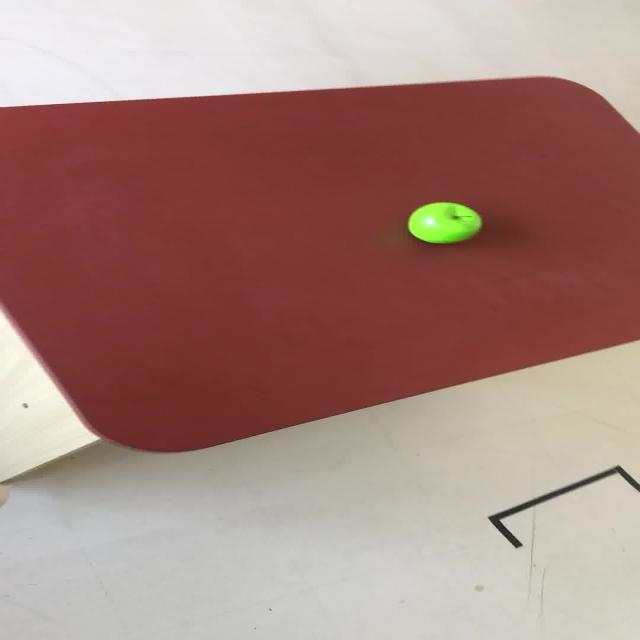apple: (406, 201, 482, 244)
